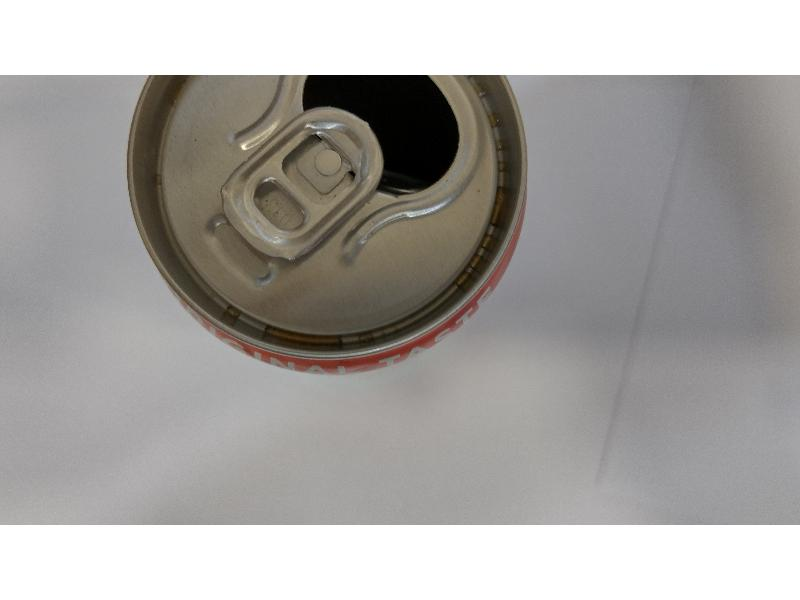can: (108, 75, 554, 387)
